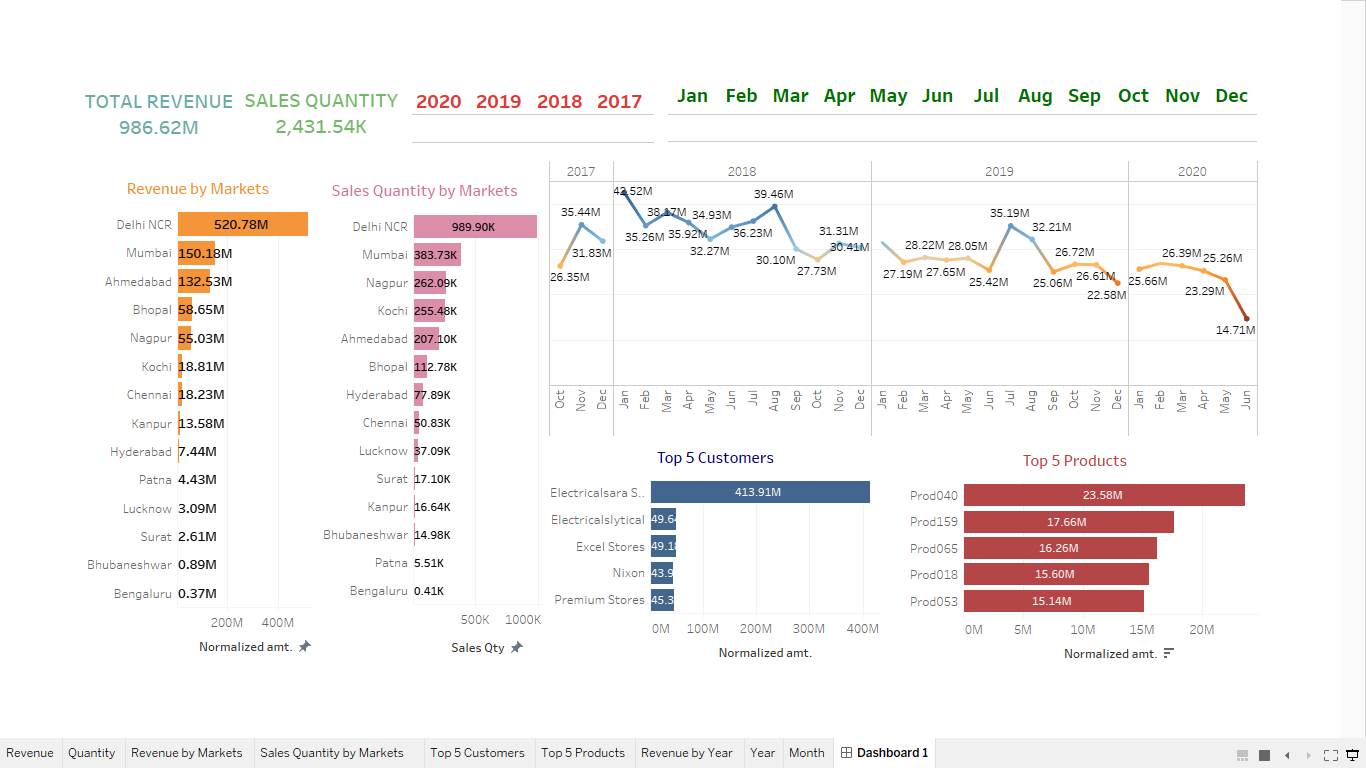

This screenshot's page, from the dashboard's own definition file:
{"tool":"powerbi","page":{"name":"Page 1","canvas":[1171,687],"ordinal":0},"visuals":[{"type":"card","title":"Sales","fields":{"Values":["BaseMeasures.sales Qty"]},"box":[141.1,0,118.7,78.7],"z":0},{"type":"card","title":"Revenue","fields":{"Values":["BaseMeasures.Revenue"]},"box":[0,0,141.1,78.7],"z":1000},{"type":"barChart","title":"Revenue by Markets","fields":{"Y":["BaseMeasures.Revenue"],"Category":["sales markets.markets_name"]},"box":[0,91.2,247.5,621.2],"z":2000},{"type":"barChart","title":"Sales Qty by Markets","fields":{"Y":["BaseMeasures.sales Qty"],"Category":["sales markets.markets_name"]},"box":[235,91.2,217.5,596.2],"z":3000},{"type":"slicer","fields":{"Values":["sales date.year"]},"box":[259.8,0,326,67.5],"z":4000},{"type":"slicer","fields":{"Values":["sales date.cy_date"]},"box":[563.3,0,607.1,67.5],"z":5000},{"type":"barChart","title":"Top 5 Customers","fields":{"Y":["BaseMeasures.Revenue"],"Category":["sales customers.custmer_name"]},"box":[452.2,402.2,336,283.5],"z":6000},{"type":"barChart","title":"Top 5 Products","fields":{"Y":["BaseMeasures.Revenue"],"Category":["sales products.product_code"]},"box":[788.2,402.2,382.2,284.8],"z":7000},{"type":"lineChart","title":"Revenue Trend","fields":{"Y":["BaseMeasures.Revenue"],"Category":["sales date.cy_date"]},"box":[452,78.3,718.6,302.3],"z":8000}]}

Visuals, with their boxes in screenshot pixels (x1, y1, x2, y2):
"Sales" card: Rect(79, 18, 205, 102)
"Revenue" card: Rect(0, 18, 79, 102)
"Revenue by Markets" barChart: Rect(0, 115, 192, 767)
"Sales Qty by Markets" barChart: Rect(179, 115, 410, 749)
slicer - sales date.year: Rect(205, 18, 552, 90)
slicer - sales date.cy_date: Rect(528, 18, 1174, 90)
"Top 5 Customers" barChart: Rect(410, 446, 767, 747)
"Top 5 Products" barChart: Rect(767, 446, 1174, 749)
"Revenue Trend" lineChart: Rect(410, 101, 1174, 423)
